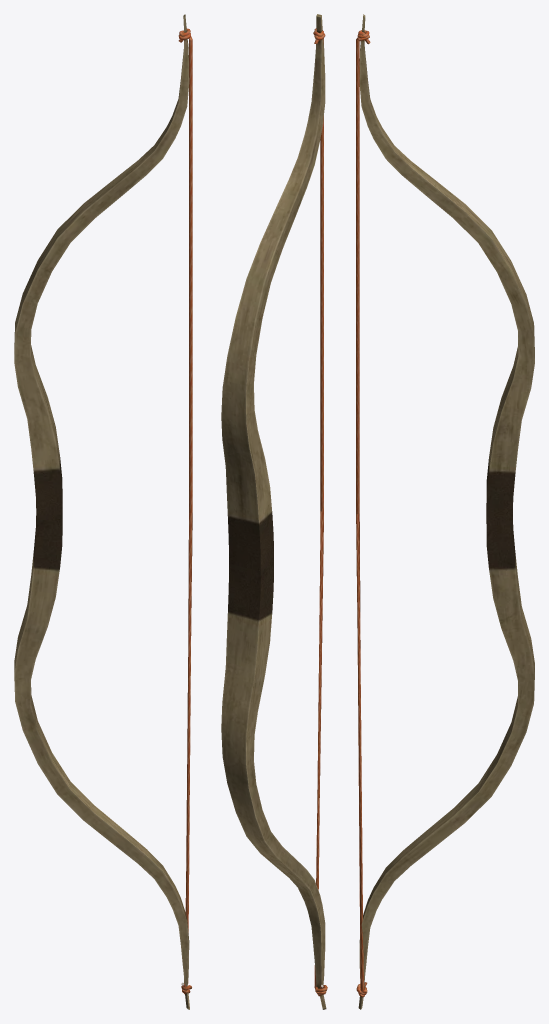
The model's file is hornbow.glb.
3 renders of one model, left to right at view 1: azimuth 90°, elevation 25°; view 2: azimuth 150°, elevation 25°; view 3: azimuth 270°, elevation 25°, orthographic.
Parts seen in each view (by area): view 1: Object_169; view 2: Object_169; view 3: Object_169.
Part boxes in pixels (x1,y1,x2,y2): Object_169: [14, 14, 192, 1009]; Object_169: [221, 14, 327, 1009]; Object_169: [356, 14, 534, 1009].
Size of the model in its own units: 0.0296 by 0.8821 by 0.1436.
Materials: 1 (1 with a texture image).
